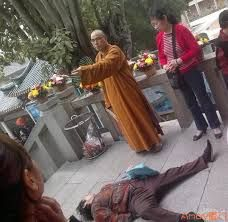fall: (72, 134, 221, 222)
